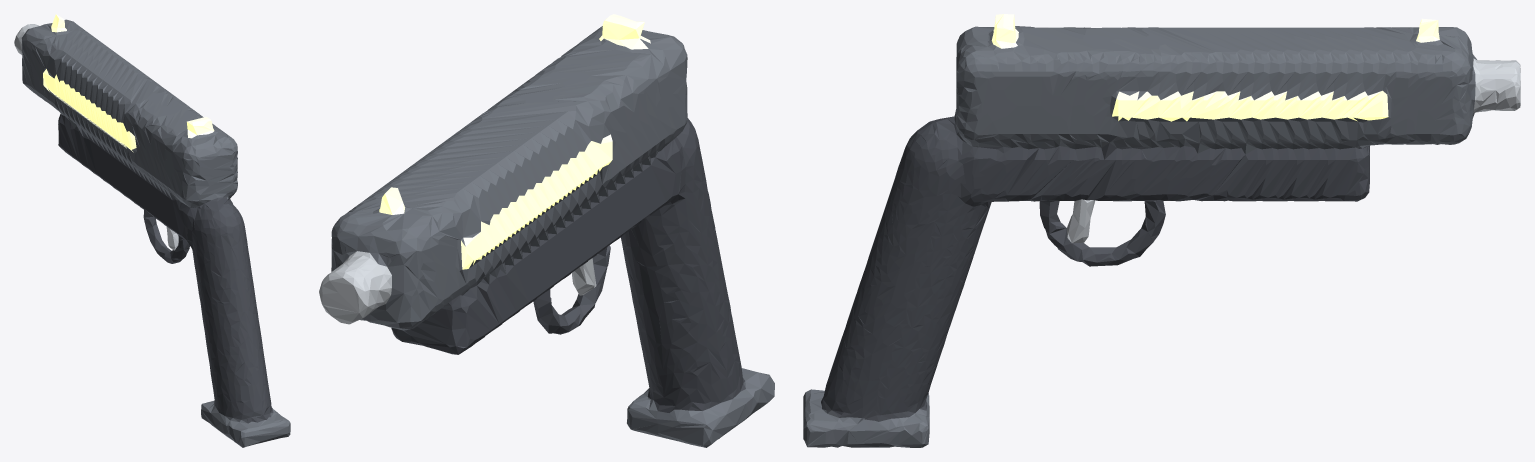
The model's file is pistol-orange.glb.
The picture shows the model from 3 angles, left to right: view 1: azimuth 30°, elevation 25°; view 2: azimuth 150°, elevation 25°; view 3: azimuth 270°, elevation 25°; orthographic projection. The views are drawn at different scales.
Visible parts, largest first — view 1: gunmetal, polymer, glow-orange, steel; view 2: gunmetal, polymer, glow-orange, steel; view 3: gunmetal, polymer, glow-orange, steel.
Part boxes in pixels (x1=…): gunmetal: x1=21, y1=19, x2=290, y2=447; polymer: x1=58, y1=114, x2=273, y2=423; glow-orange: x1=43, y1=14, x2=214, y2=152; steel: x1=14, y1=24, x2=178, y2=250; gunmetal: x1=331, y1=26, x2=774, y2=447; polymer: x1=391, y1=118, x2=745, y2=412; glow-orange: x1=379, y1=14, x2=650, y2=269; steel: x1=319, y1=251, x2=596, y2=324; gunmetal: x1=803, y1=26, x2=1476, y2=447; polymer: x1=821, y1=116, x2=1369, y2=423; glow-orange: x1=991, y1=14, x2=1439, y2=121; steel: x1=1067, y1=58, x2=1520, y2=243.
Bounding box in the file's own units: 0.0437 × 0.1927 × 0.295.
